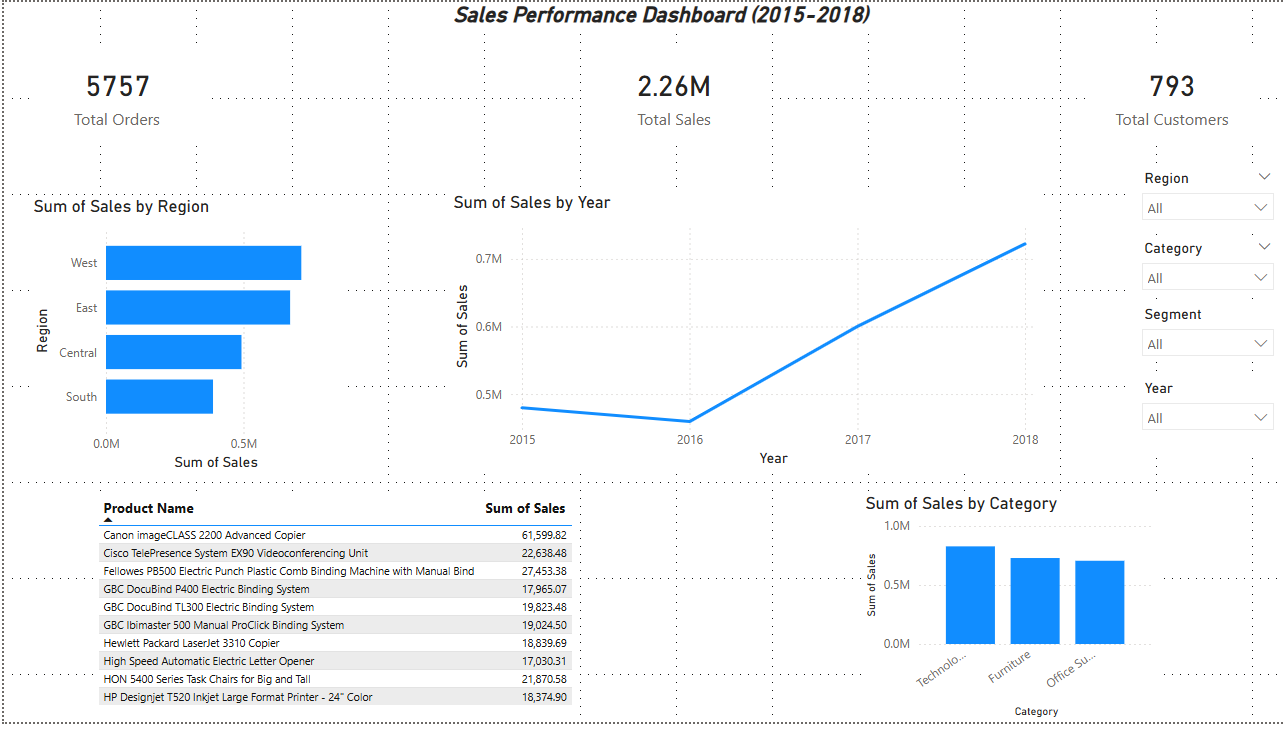

Layout of this report page (visuals, bound fields, positions):
{"tool":"powerbi","page":{"name":"Page 1","canvas":[1280,720],"ordinal":0},"visuals":[{"type":"lineChart","fields":{"Y":["Sum(train.Sales)"],"Category":["train.Order Date.Variation.Date Hierarchy.Year"]},"box":[445,190,594,279],"z":1000},{"type":"clusteredBarChart","fields":{"Category":["train.Region"],"Y":["Sum(train.Sales)"]},"box":[25,194,316,279],"z":2000},{"type":"clusteredColumnChart","fields":{"Category":["train.Category"],"Y":["Sum(train.Sales)"]},"box":[857,491,297,229],"z":3000},{"type":"tableEx","fields":{"Values":["train.Product Name","Sum(train.Sales)"]},"box":[89,491,485,229],"z":4000},{"type":"slicer","fields":{"Values":["train.Region"]},"box":[1128,163,152,62],"z":5000},{"type":"slicer","fields":{"Values":["train.Category"]},"box":[1128,233,152,58],"z":6000},{"type":"slicer","fields":{"Values":["train.Segment"]},"box":[1128,299,152,61],"z":7000},{"type":"slicer","fields":{"Values":["train.Order Date.Variation.Date Hierarchy.Year"]},"box":[1128,373,152,81],"z":8000},{"type":"textbox","title":"Sales Performance  Dashboard (2015-2018)","box":[444.7,0,442,30.8],"z":9000},{"type":"card","fields":{"Values":["train.Total Sales"]},"box":[579,44,182,97],"z":10000},{"type":"card","fields":{"Values":["train.Total Customers"]},"box":[1087,44,162,97],"z":11000},{"type":"card","fields":{"Values":["train.Total Orders"]},"box":[25,44,176,97],"z":11001}]}

Visuals, with their boxes in screenshot pixels (x1, y1, x2, y2), scaled from the page's 1280x720 canvas onto the 1283x730 screenshot:
lineChart - Sum(train.Sales) x train.Order Date.Variation.Date Hierarchy.Year: [446, 193, 1041, 476]
clusteredBarChart - train.Region x Sum(train.Sales): [25, 197, 342, 480]
clusteredColumnChart - train.Category x Sum(train.Sales): [859, 498, 1157, 729]
tableEx - train.Product Name x Sum(train.Sales): [89, 498, 575, 729]
slicer - train.Region: [1131, 165, 1282, 228]
slicer - train.Category: [1131, 236, 1282, 295]
slicer - train.Segment: [1131, 303, 1282, 365]
slicer - train.Order Date.Variation.Date Hierarchy.Year: [1131, 378, 1282, 460]
"Sales Performance  Dashboard (2015-2018)" textbox: [446, 0, 889, 31]
card - train.Total Sales: [580, 45, 763, 143]
card - train.Total Customers: [1090, 45, 1252, 143]
card - train.Total Orders: [25, 45, 201, 143]
